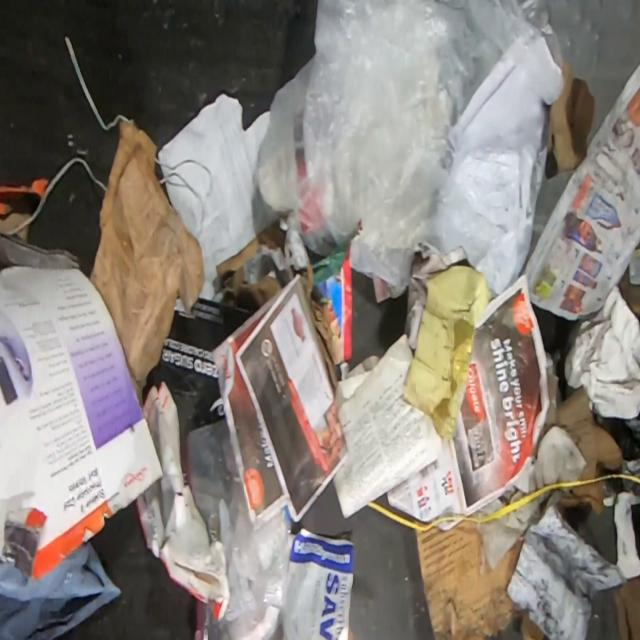cardboard: (88, 113, 208, 420), (414, 513, 524, 639)
soft_plastic: (256, 0, 565, 297), (186, 419, 294, 637), (0, 541, 120, 639)
